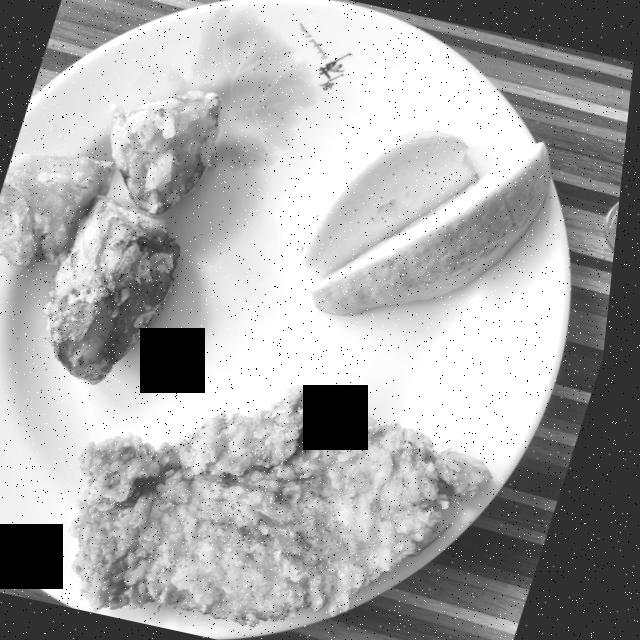coin: (609, 200, 624, 247)
fried chicken cutlet: (82, 384, 500, 625)
fried potato: (0, 89, 223, 383)
guava -sliced-: (306, 128, 554, 315)
